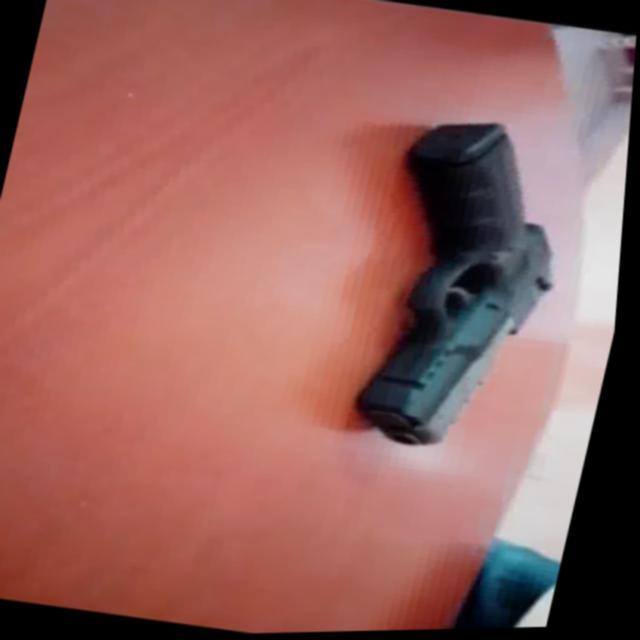weapon: (346, 110, 594, 464)
